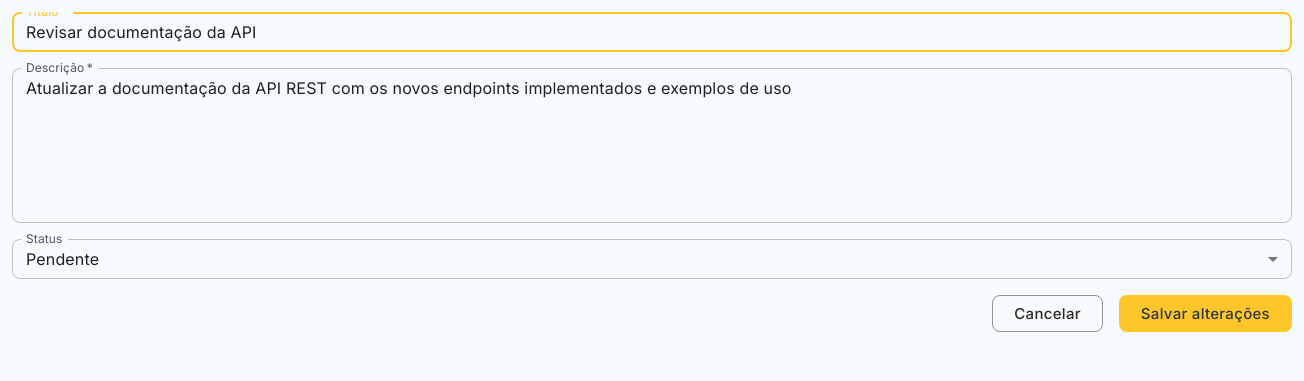
Scenario: FormEditTask › should show error when description is empty
The width and height of the screenshot is (1304, 381).
Step 1. Clear the text box labelled "Descrição *" → {"x": 652, "y": 146}, box [26,76,1278,214]
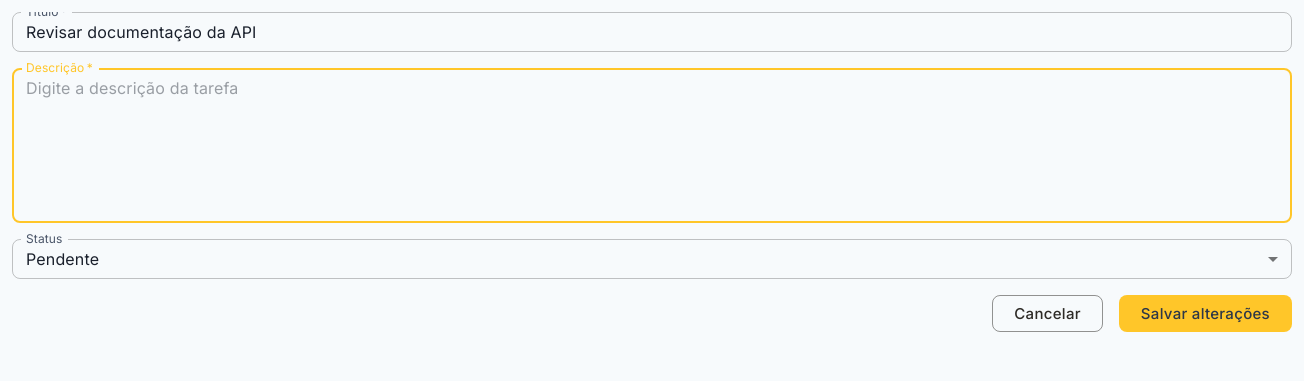
Step 2. Press Tab
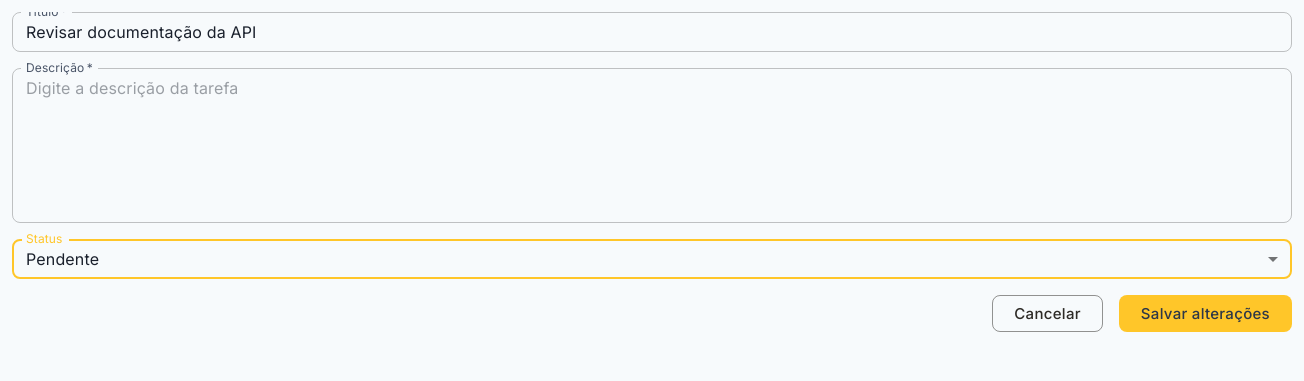
Step 3. Click the button "Salvar alterações" → {"x": 1205, "y": 314}, box [1119,295,1292,332]
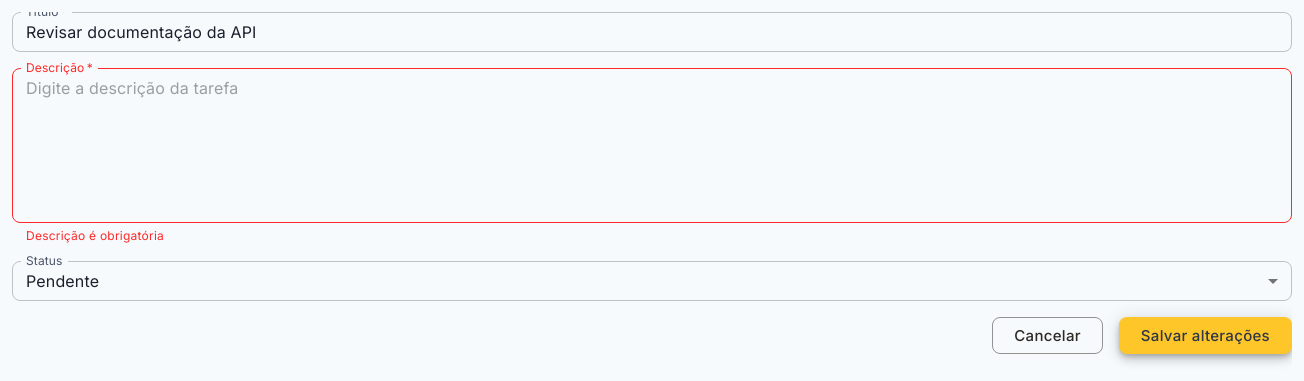
expect the text "Descrição é obrigatória" is shown: met, box [26,228,164,243]
